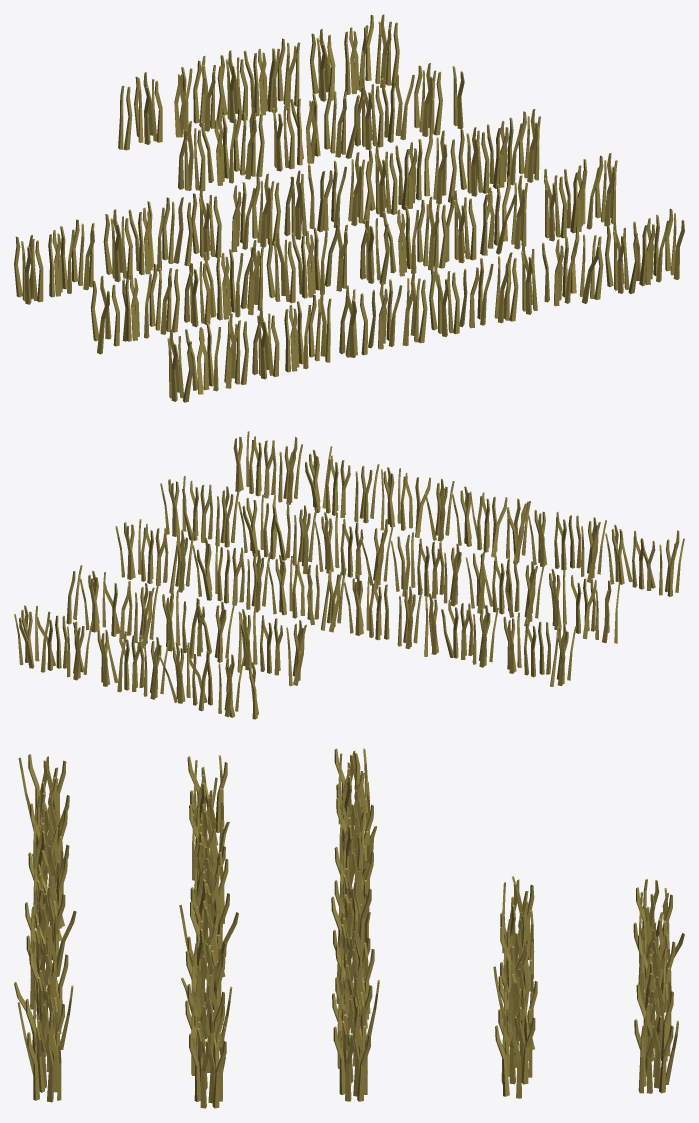
Rendered from Farm_SecondAge_Level3_Wheat.glb.
The picture shows the model from 3 angles, top to bottom: view 1: azimuth 30°, elevation 25°; view 2: azimuth 150°, elevation 25°; view 3: azimuth 270°, elevation 25°; orthographic projection. The views are drawn at different scales.
Visible parts, largest first — view 1: Farm_SecondAge_Level3_Wheat; view 2: Farm_SecondAge_Level3_Wheat; view 3: Farm_SecondAge_Level3_Wheat.
Part boxes in pixels (left/top/right/bottom): Farm_SecondAge_Level3_Wheat: left=14, top=14, right=684, bottom=402; Farm_SecondAge_Level3_Wheat: left=14, top=431, right=684, bottom=719; Farm_SecondAge_Level3_Wheat: left=14, top=748, right=684, bottom=1108.
Size of the model in its own units: 1.51 by 0.1883 by 1.46.
